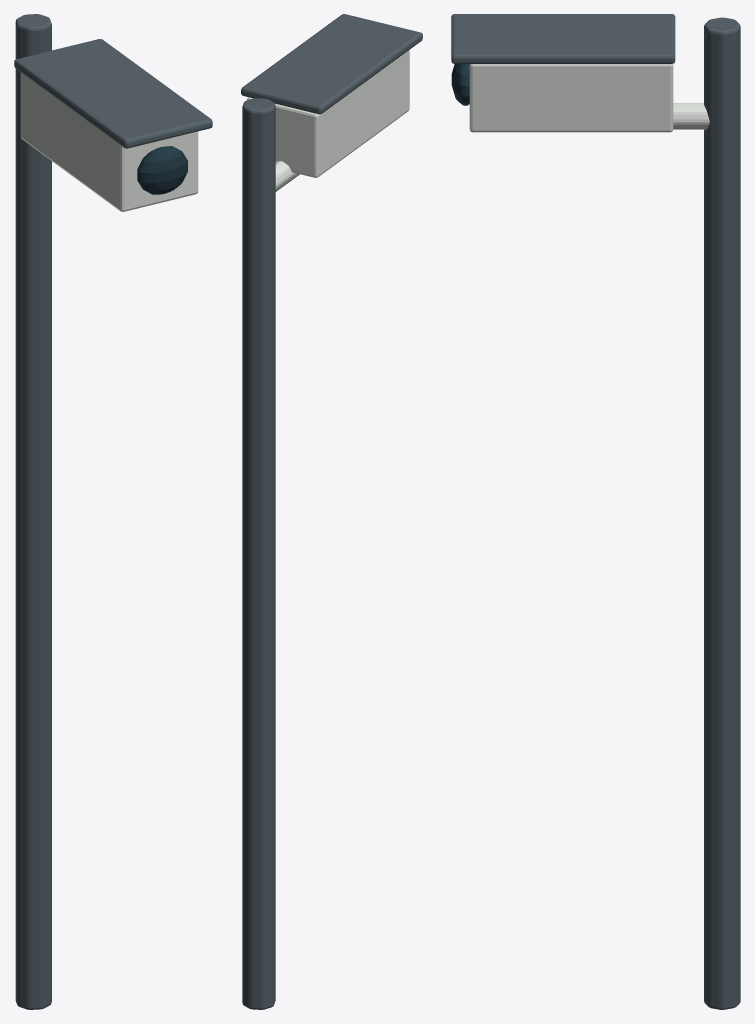
Rendered from SAF_CCTV_01.fbx.
3 renders of one model, left to right at view 1: azimuth 30°, elevation 25°; view 2: azimuth 150°, elevation 25°; view 3: azimuth 270°, elevation 25°, orthographic. The views are drawn at different scales.
Parts seen in each view (by area): view 1: SAF_CCTV_01; view 2: SAF_CCTV_01; view 3: SAF_CCTV_01.
Part boxes in pixels (left/top/right/bottom): SAF_CCTV_01: left=14, top=14, right=212, bottom=1009; SAF_CCTV_01: left=241, top=14, right=422, bottom=1009; SAF_CCTV_01: left=451, top=14, right=740, bottom=1009.
Size of the model in its own units: 25 by 265 by 71.03.
